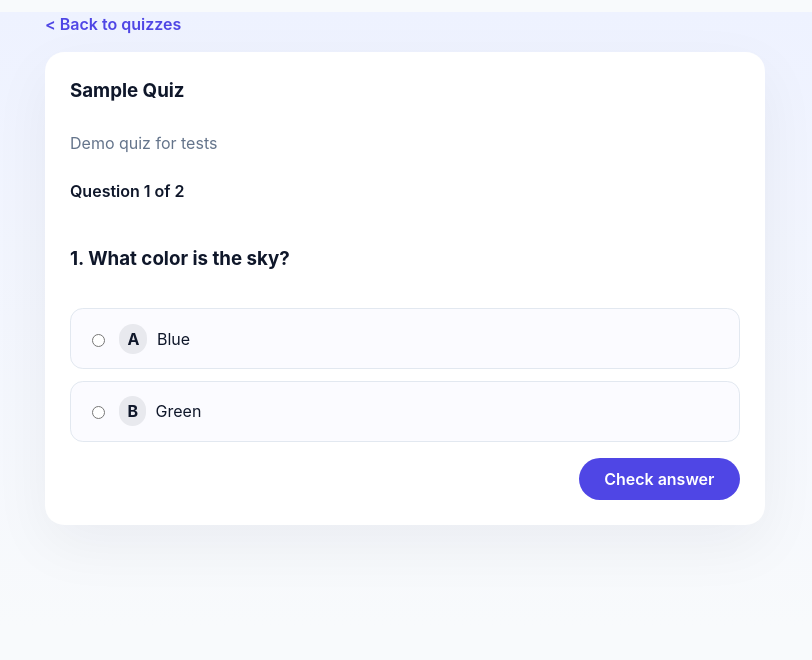
Scenario: QuizDetailPage › shows review-style tags when the wrong option is submitted
Click the radio button labelled "B Green" at (98, 413), box top-left (92, 406), bottom-right (105, 419)
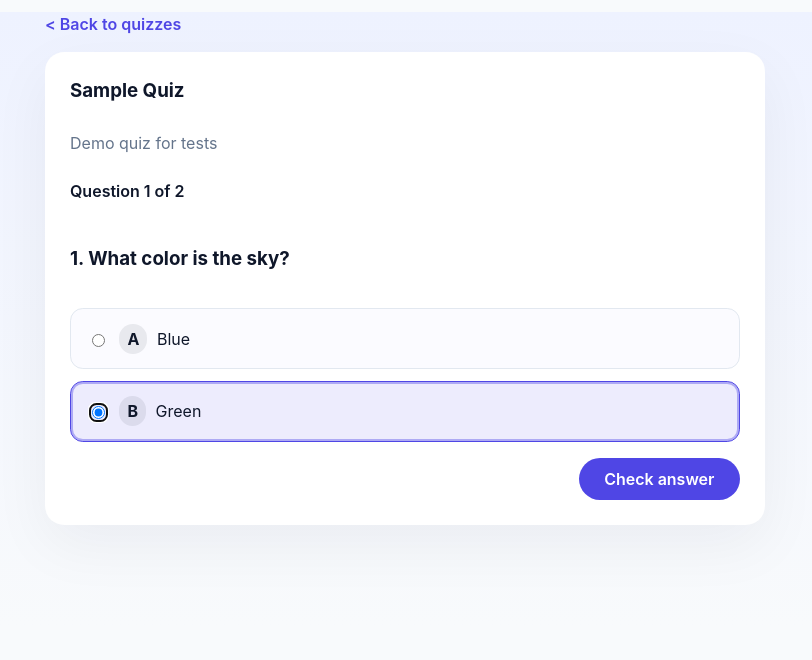
Click the button "Check answer" at (659, 479), box top-left (578, 458), bottom-right (740, 500)
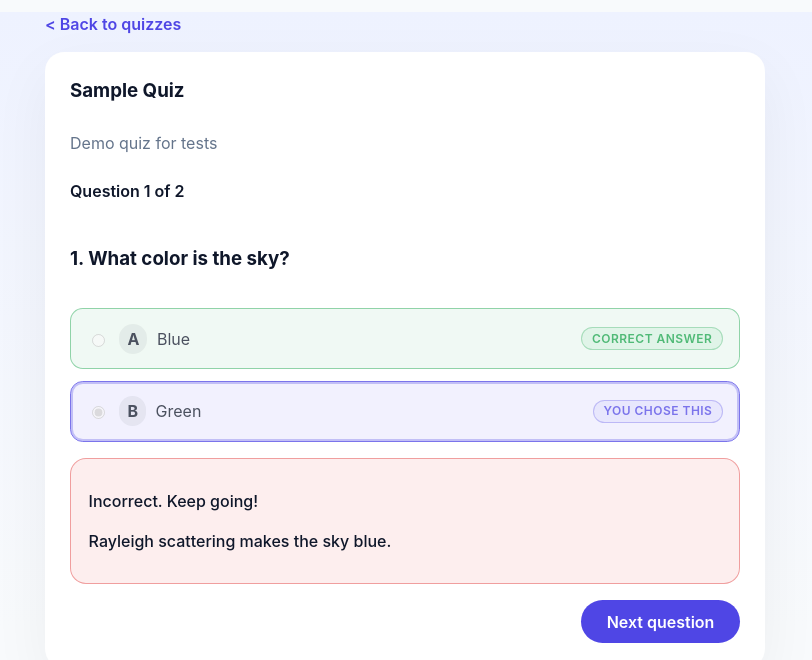
Expected: the text "Correct answer" is shown, top-left (581, 327), bottom-right (723, 350)
Expected: the text "You chose this" is shown, top-left (593, 400), bottom-right (723, 423)
